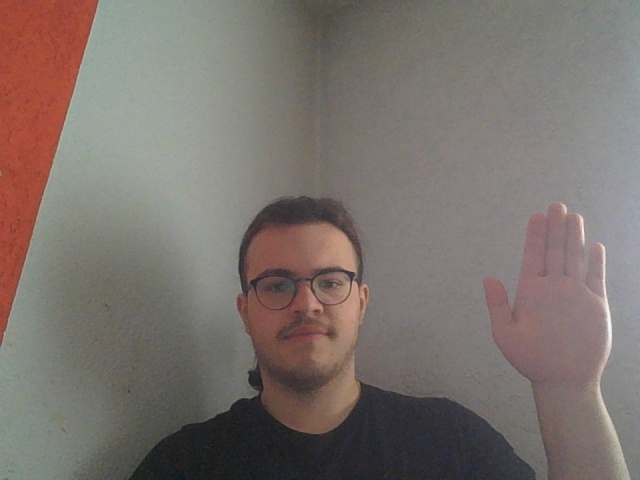Hello: (481, 202, 615, 389)
